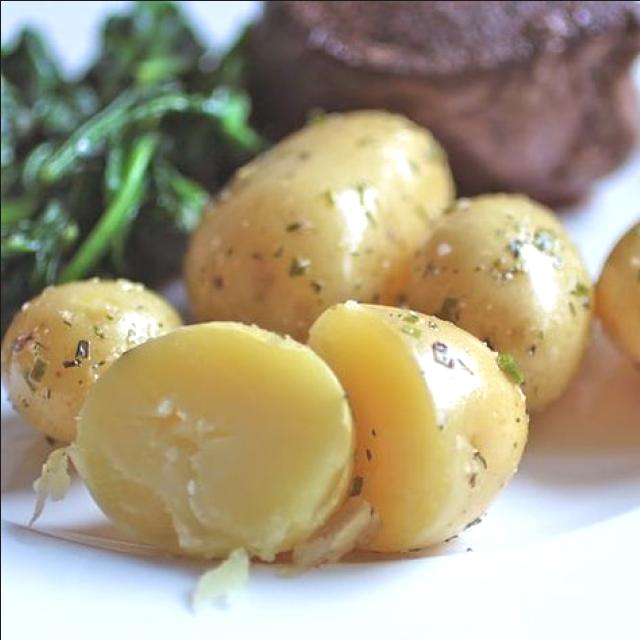kentang rebus: (62, 321, 352, 563)
